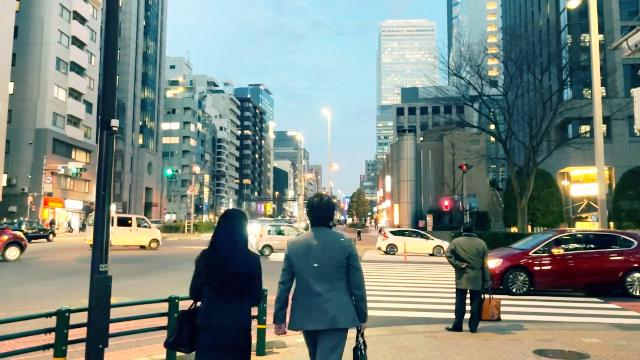berdiri: (442, 216, 490, 334)
berjalan: (274, 188, 374, 360), (162, 202, 266, 360)
